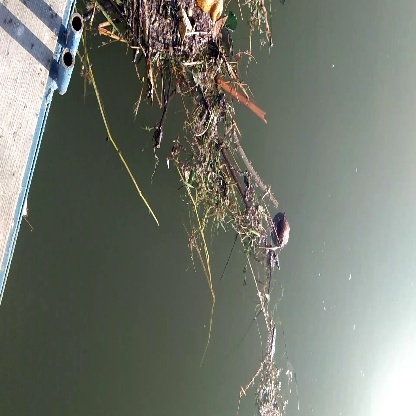branch: (221, 123, 282, 208)
